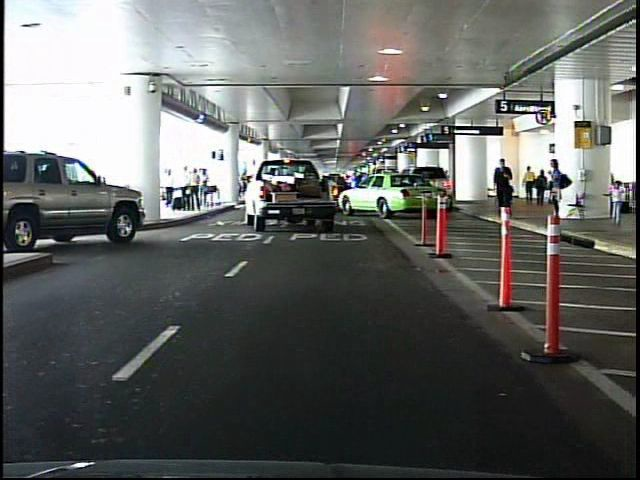person: (544, 155, 571, 225), (492, 156, 514, 220), (602, 177, 626, 227), (536, 170, 547, 207), (524, 166, 534, 204)
